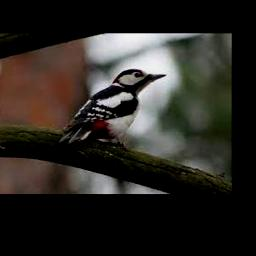Woodpecker: (59, 69, 168, 150)
